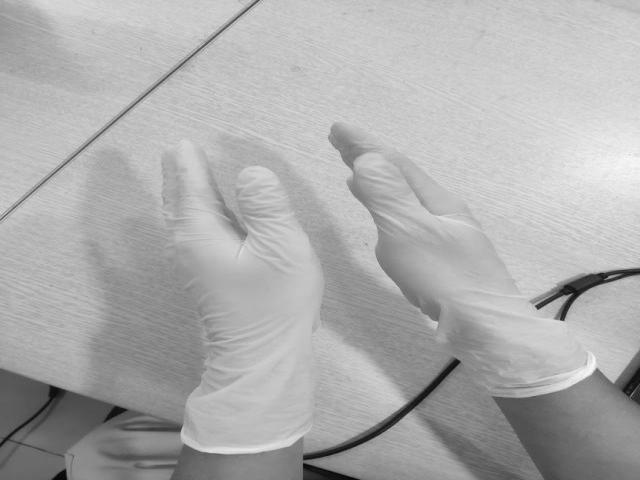gloved: (329, 120, 541, 316), (160, 138, 326, 328)
